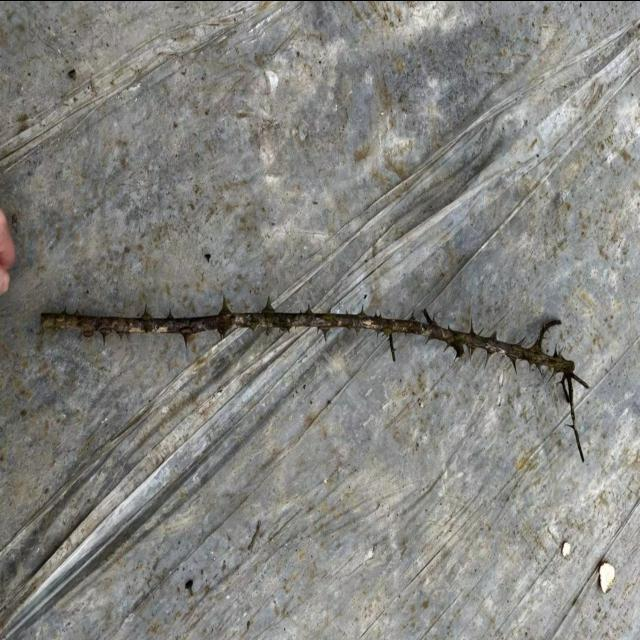branch: (42, 306, 576, 378)
